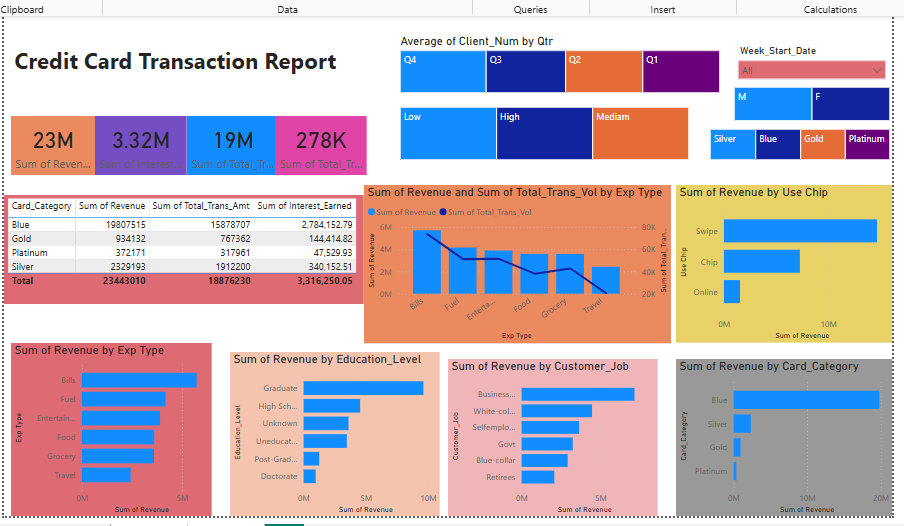

The page's visual inventory and layout, read from the dashboard file:
{"tool":"powerbi","page":{"name":"Credit Card Transaction Report","canvas":[1280,720],"ordinal":1},"visuals":[{"type":"textbox","box":[10.1,36,491,61.9],"z":0},{"type":"lineStackedColumnComboChart","fields":{"Y":["Sum(credit_card.Revenue)"],"Y2":["Sum(credit_card.Total_Trans_Vol)"],"Category":["credit_card.Exp Type"]},"box":[518.4,243.4,442.1,227.5],"z":1000},{"type":"barChart","fields":{"Category":["credit_card.Exp Type"],"Y":["Sum(credit_card.Revenue)"]},"box":[9.7,471.1,289.1,250.2],"z":2000},{"type":"barChart","fields":{"Category":["customer.Education_Level"],"Y":["Sum(credit_card.Revenue)"]},"box":[325.4,483.8,302.4,237.6],"z":3000},{"type":"barChart","fields":{"Category":["customer.Customer_Job"],"Y":["Sum(credit_card.Revenue)"]},"box":[640,493.8,302.1,227.4],"z":4000},{"type":"barChart","fields":{"Category":["credit_card.Card_Category"],"Y":["Sum(credit_card.Revenue)"]},"box":[968.1,493.8,311.9,227.4],"z":5000},{"type":"barChart","fields":{"Category":["credit_card.Use Chip"],"Y":["Sum(credit_card.Revenue)"]},"box":[968.1,243.7,311.9,227.4],"z":6000},{"type":"tableEx","fields":{"Values":["credit_card.Card_Category","Sum(credit_card.Revenue)","Sum(credit_card.Total_Trans_Amt)","Sum(credit_card.Interest_Earned)"]},"box":[0,257.8,518.4,198.7],"z":7000},{"type":"card","fields":{"Values":["Sum(credit_card.Revenue)"]},"box":[10.1,144,139.7,113.8],"z":8000},{"type":"card","fields":{"Values":["Sum(credit_card.Total_Trans_Amt)"]},"box":[299.5,144,136.8,113.8],"z":9000},{"type":"card","fields":{"Values":["Sum(credit_card.Interest_Earned)"]},"box":[149.8,144,149.8,113.8],"z":10000},{"type":"card","fields":{"Values":["Sum(credit_card.Total_Trans_Vol)"]},"box":[436.3,144,129.6,99.4],"z":11000},{"type":"slicer","fields":{"Values":["credit_card.Week_Start_Date"]},"box":[1046.9,11.5,233.3,64.8],"z":12000},{"type":"treemap","fields":{"Group":["credit_card.Qtr"],"Values":["Avg(credit_card.Client_Num)"]},"box":[565.9,0,469.4,76.3],"z":13000},{"type":"treemap","fields":{"Values":["Avg(credit_card.Client_Num)"],"Group":["customer.Gender"]},"box":[1046.9,76.3,233.3,79.2],"z":14000},{"type":"treemap","fields":{"Values":["Avg(credit_card.Client_Num)"],"Group":["credit_card.Card_Category"]},"box":[1012.3,158.4,267.8,53.3],"z":15000},{"type":"treemap","fields":{"Values":["Avg(credit_card.Client_Num)"],"Group":["customer.IncomeGroup"]},"box":[627.8,155.5,362.9,56.2],"z":16000}]}

Visuals, with their boxes in screenshot pixels (x1, y1, x2, y2):
textbox: <box>7,37,349,80</box>
lineStackedColumnComboChart - Sum(credit_card.Revenue) x Sum(credit_card.Total_Trans_Vol): <box>361,181,669,340</box>
barChart - credit_card.Exp Type x Sum(credit_card.Revenue): <box>7,340,208,514</box>
barChart - customer.Education_Level x Sum(credit_card.Revenue): <box>227,349,437,514</box>
barChart - customer.Customer_Job x Sum(credit_card.Revenue): <box>446,356,656,514</box>
barChart - credit_card.Card_Category x Sum(credit_card.Revenue): <box>674,356,892,514</box>
barChart - credit_card.Use Chip x Sum(credit_card.Revenue): <box>674,182,892,340</box>
tableEx - credit_card.Card_Category x Sum(credit_card.Revenue): <box>0,191,361,330</box>
card - Sum(credit_card.Revenue): <box>7,112,104,191</box>
card - Sum(credit_card.Total_Trans_Amt): <box>209,112,304,191</box>
card - Sum(credit_card.Interest_Earned): <box>104,112,209,191</box>
card - Sum(credit_card.Total_Trans_Vol): <box>304,112,394,181</box>
slicer - credit_card.Week_Start_Date: <box>729,20,892,65</box>
treemap - credit_card.Qtr x Avg(credit_card.Client_Num): <box>394,12,721,65</box>
treemap - Avg(credit_card.Client_Num) x customer.Gender: <box>729,65,892,120</box>
treemap - Avg(credit_card.Client_Num) x credit_card.Card_Category: <box>705,122,892,159</box>
treemap - Avg(credit_card.Client_Num) x customer.IncomeGroup: <box>437,120,690,159</box>
